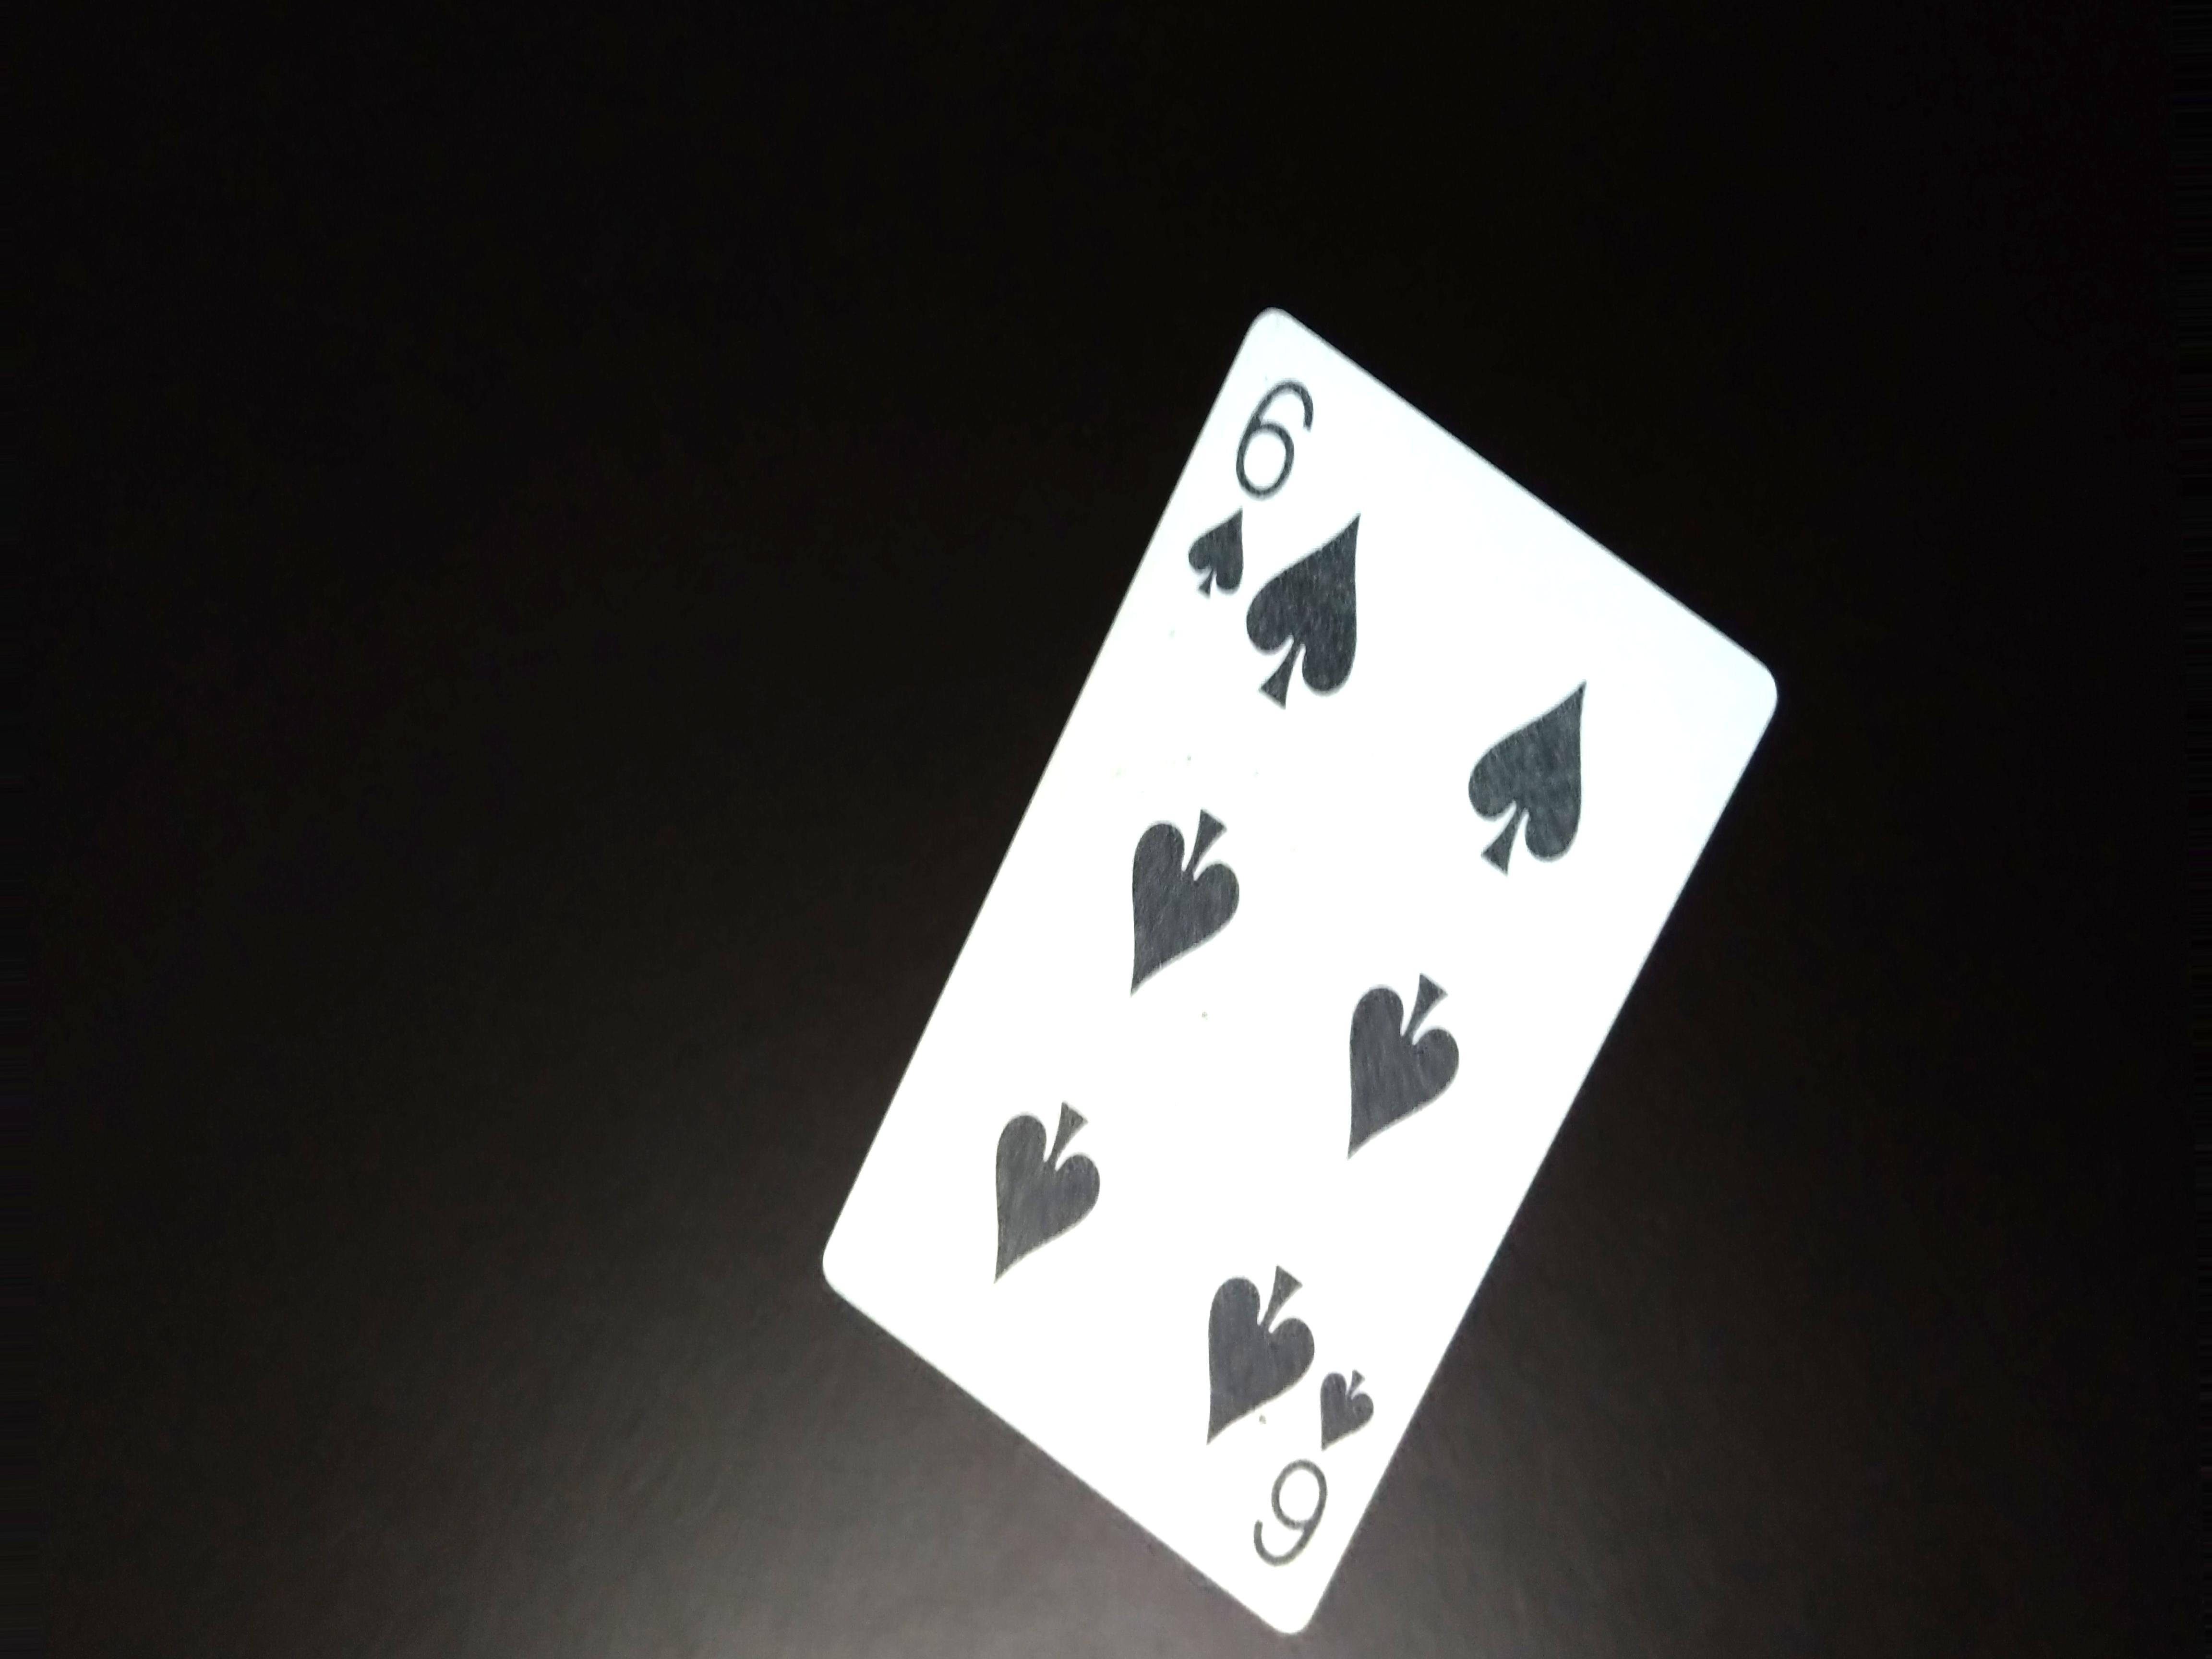6S: (1172, 350, 1329, 634)
